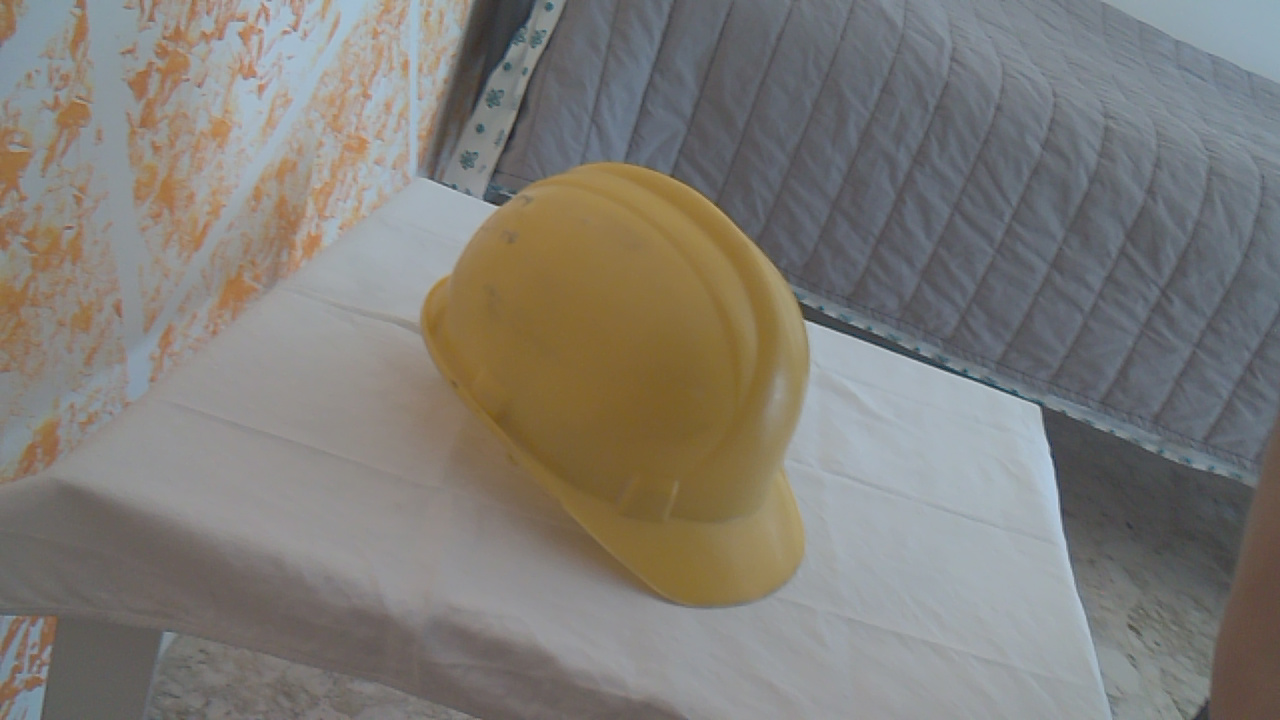Helmet: (417, 164, 812, 614)
